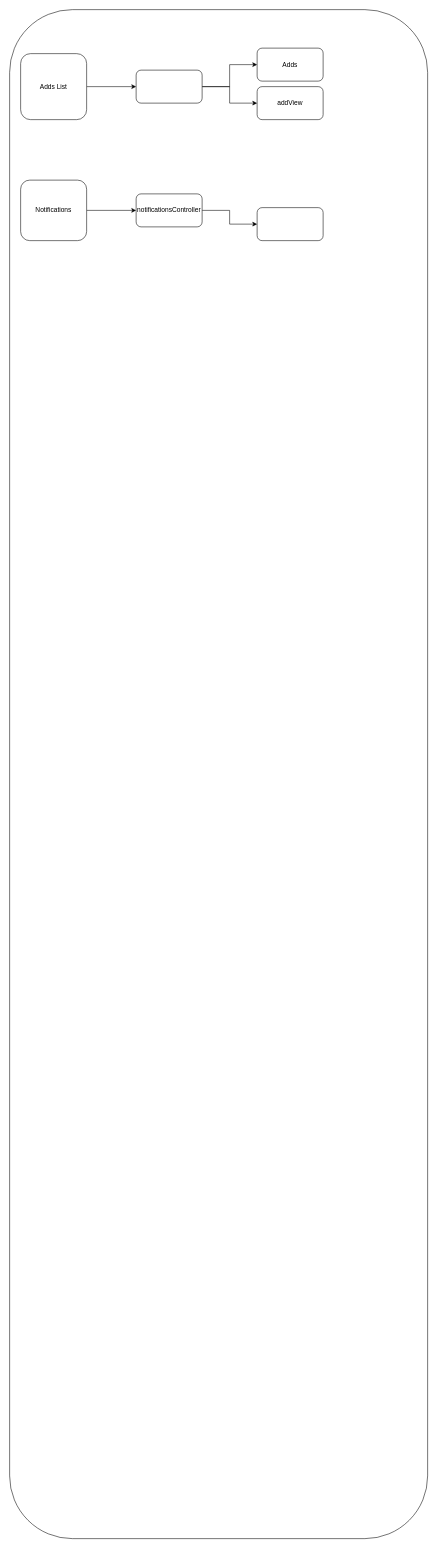
The diagram is 437 pixels wide and 1548 high, and some of its shapes have lost their labels. The shapes that lost their labels are listed below. From the top down, each one's box as (x1, y1, x2, y2) in pixels, then its label:
(136, 70, 202, 103): AddListController
(257, 207, 323, 241): notificationView
